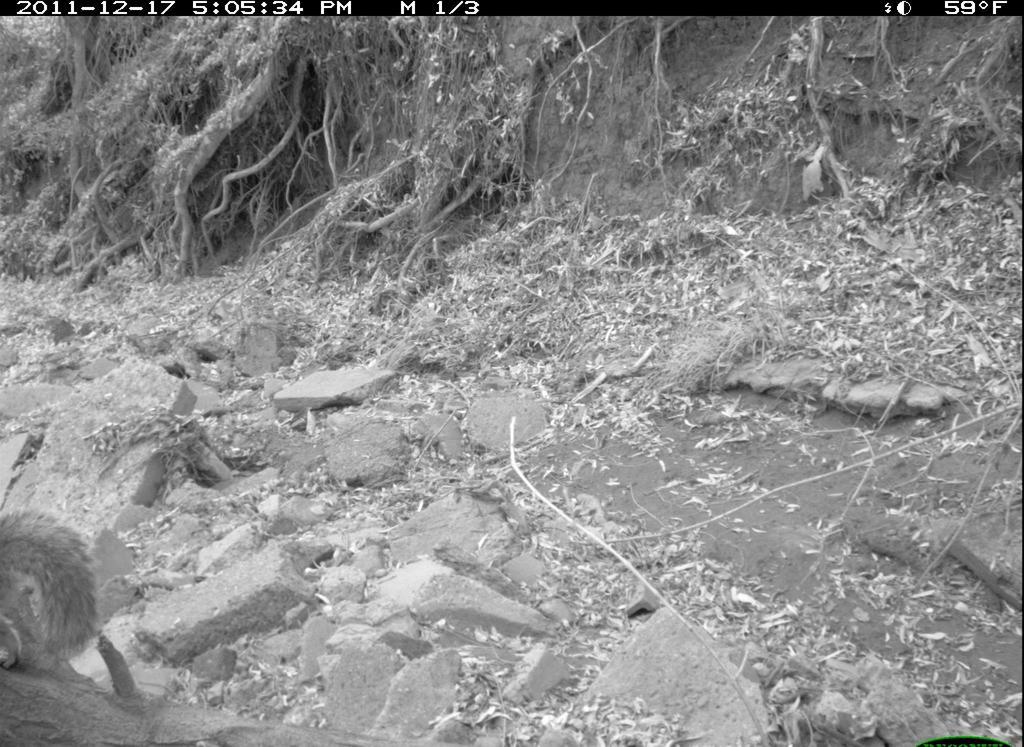squirrel: (2, 513, 97, 681)
